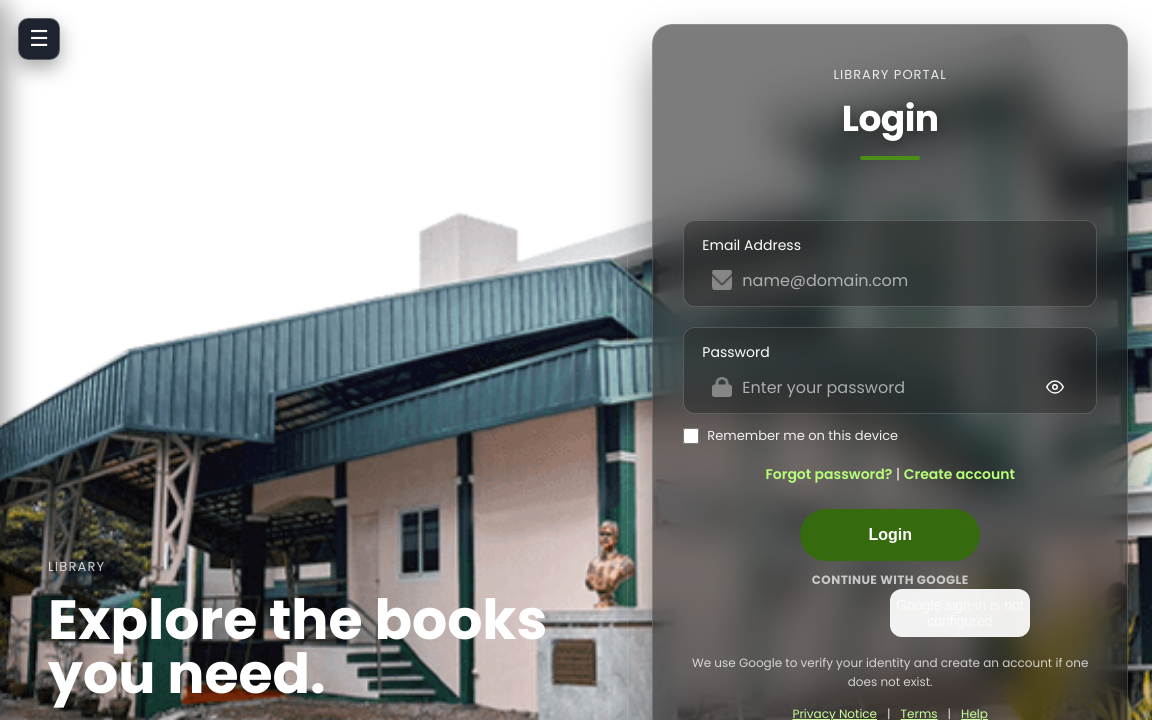
Login admin verification flow › shows OTP step after admin credentials succeed
Type "admin@cvsu.edu.ph" into the field labelled "Email Address" at [890, 280], box [702, 268, 1078, 292]
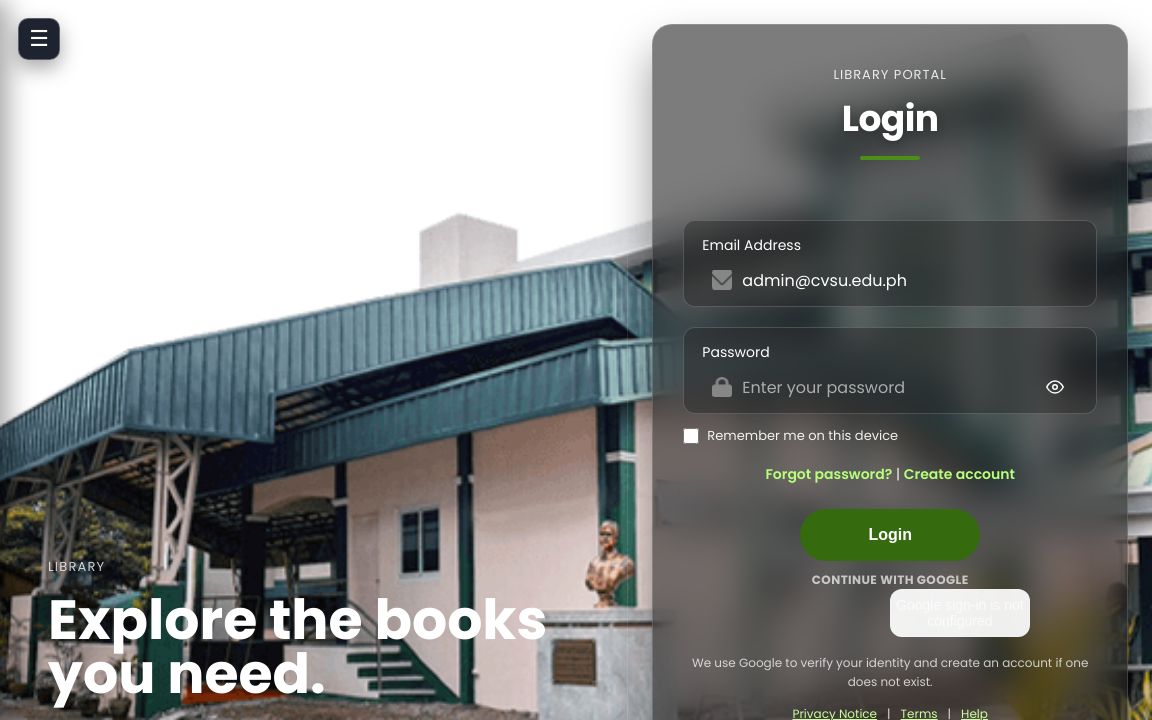
Type "AdminPass1!" into the password field labelled "Password" at [890, 387], box [702, 375, 1078, 399]
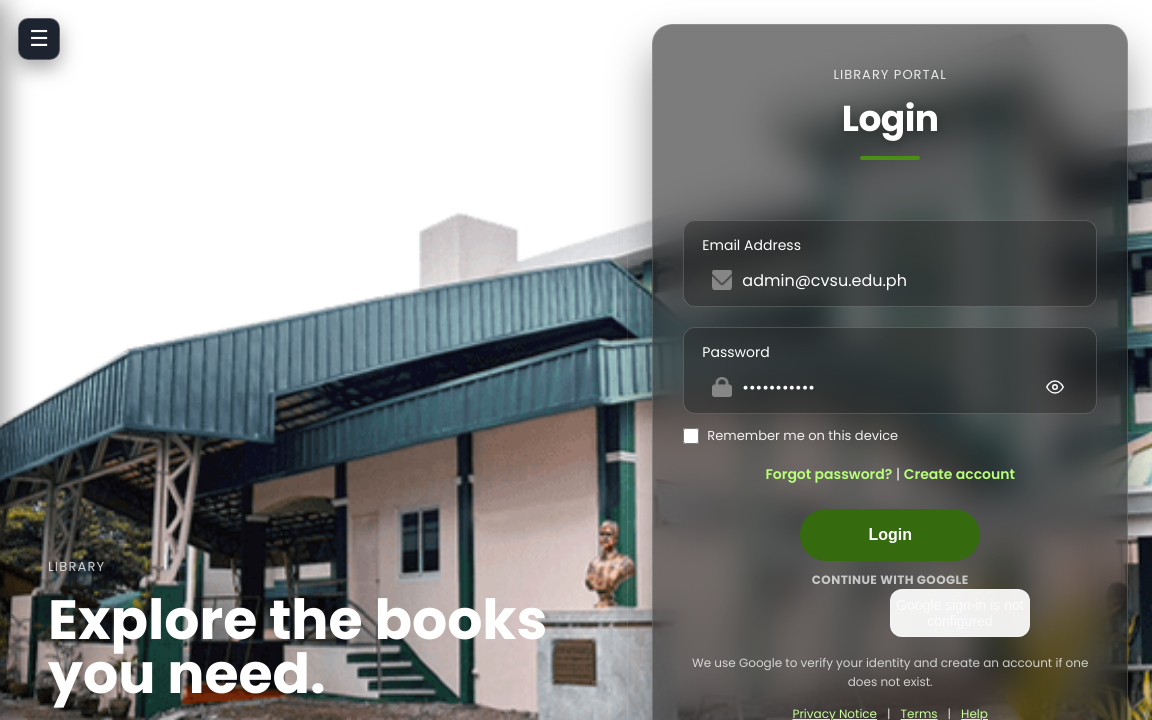
Click the button "Login" at [890, 535], box [800, 509, 980, 561]
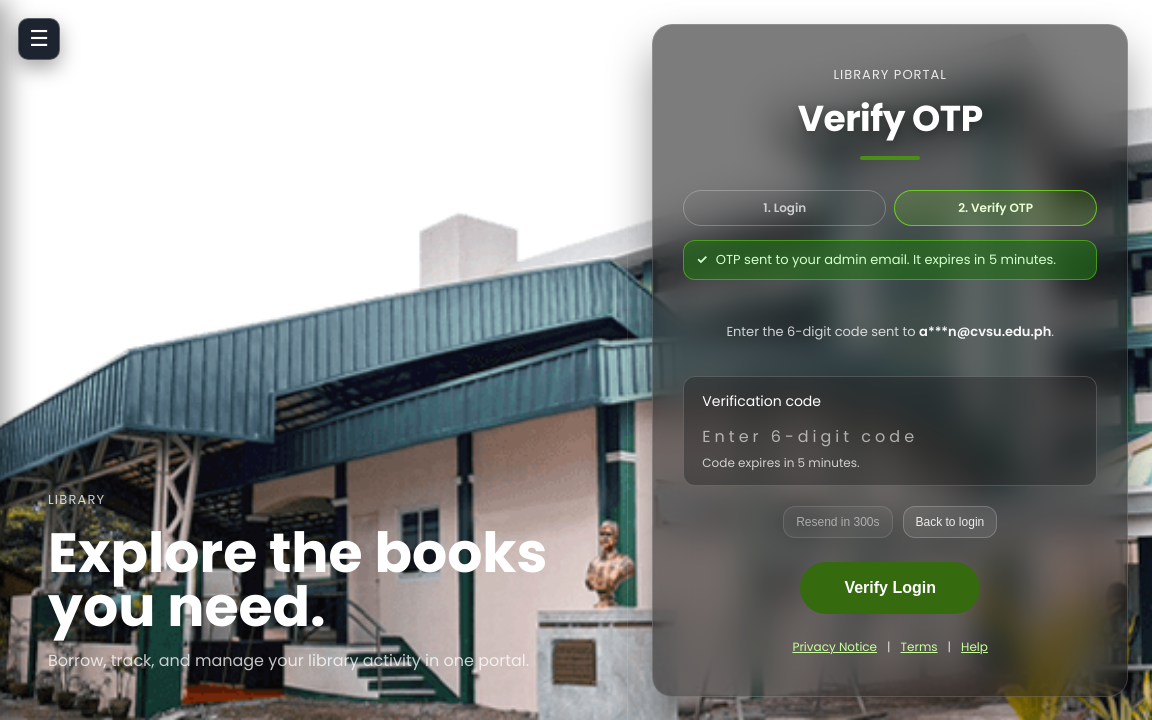
Expected: the text "Verify OTP" is shown, [798, 91, 983, 146]
Expected: the text "2. Verify OTP" is shown, [894, 190, 1097, 226]
Expected: the field labelled "Verification code" is shown, [702, 424, 1078, 449]
